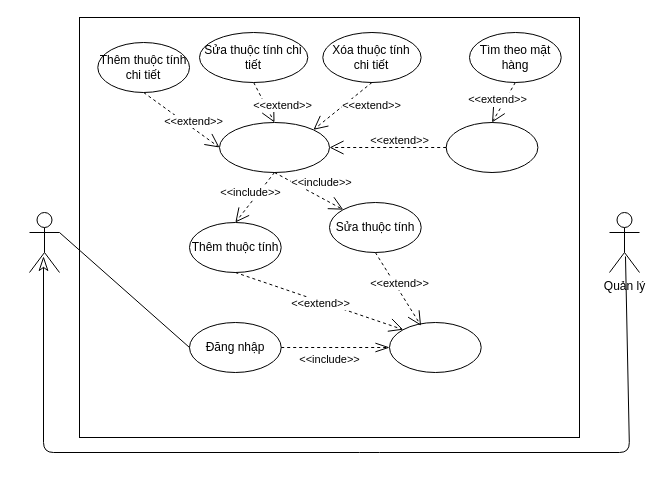
This 662x484 diagram has some shape labels left out. Here are the shapes that lost their labels. From the top down, the centre of each, then its label:
At pixel 274 147: "Quản lý thuộc tính chi tiết".
At pixel 491 147: "Tìm kiếm".
At pixel 44 242: "Nhân viên".
At pixel 434 347: "Quản lý thuộc tính".
